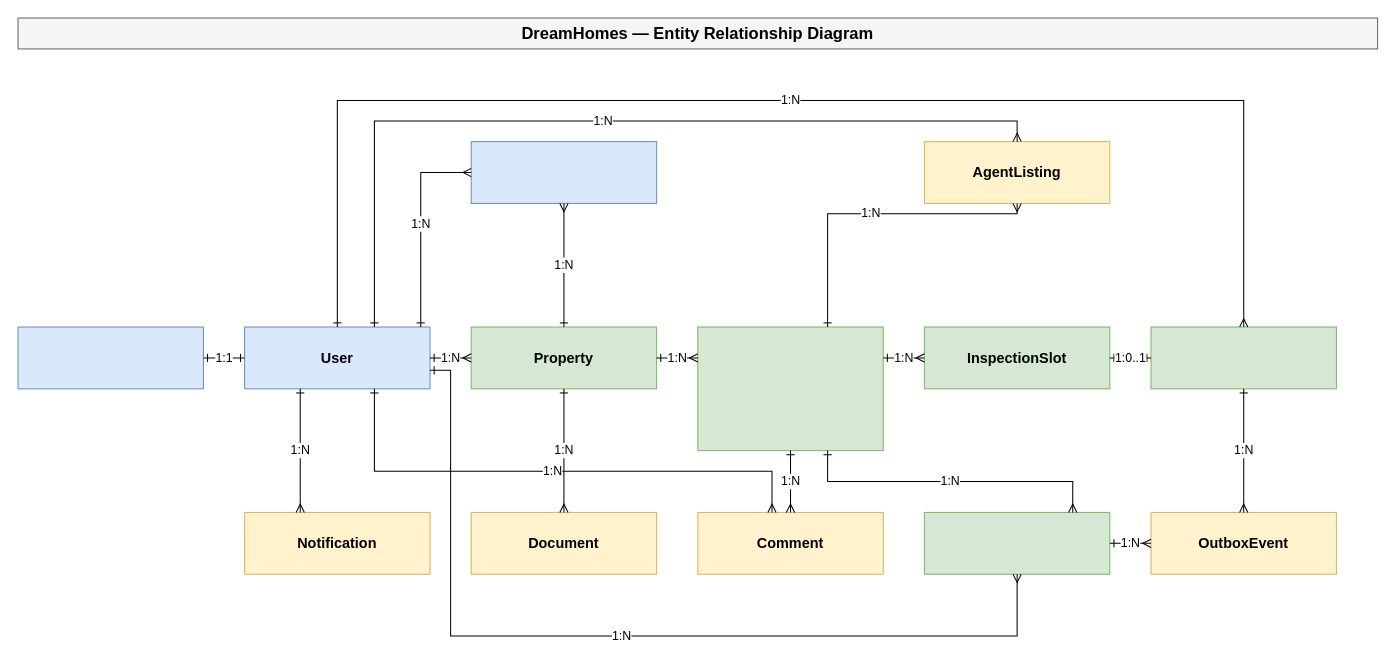
Some shapes in this 1396 by 663 pixel diagram are drawn without their labels. Each missing label, with the centre of its shape:
AgentProfile: (110,357)
InspectionRequest: (1243,357)
Listing verificationStatus: PENDING_DOCUMENTS · UNDER_REVIEW APPROVED · REJECTED: (790,388)
Offer: (1016,542)
Verification: (563,172)
